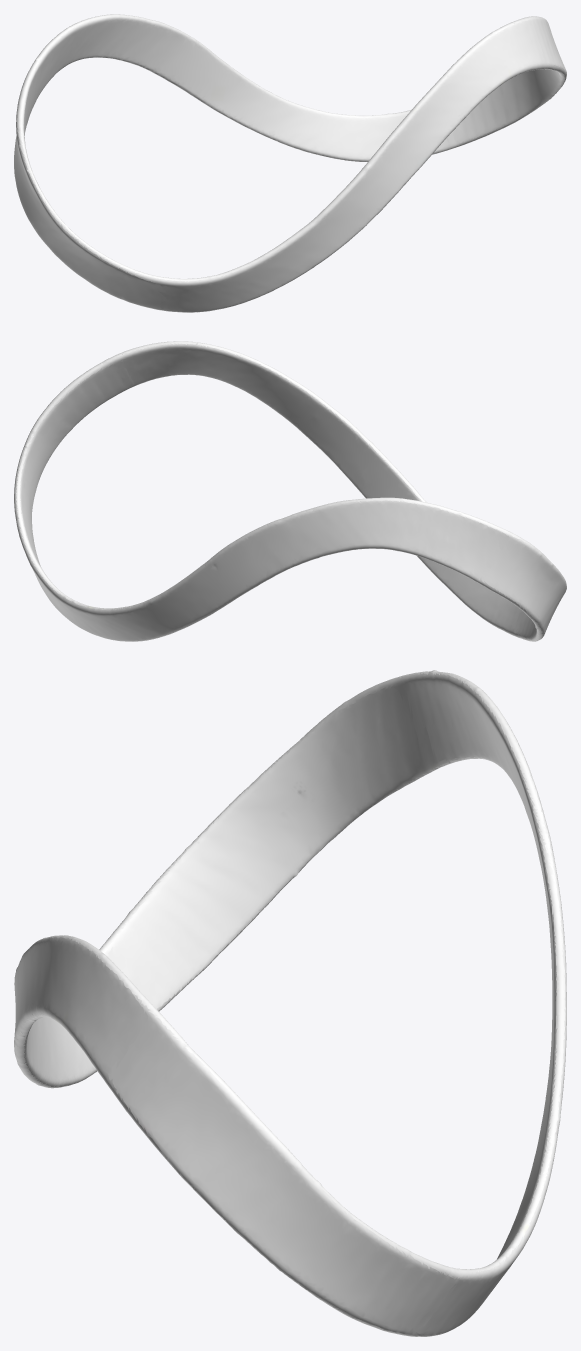
The model's file is infini.glb.
3 views of the same model, one above another, from view 1: azimuth 30°, elevation 25°; view 2: azimuth 150°, elevation 25°; view 3: azimuth 270°, elevation 25° (orthographic). The views are drawn at different scales.
Parts seen in each view (by area): view 1: mvadapter_mesh_uv_pipeline; view 2: mvadapter_mesh_uv_pipeline; view 3: mvadapter_mesh_uv_pipeline.
Boxes of the visible parts, <box> form: mvadapter_mesh_uv_pipeline: <box>14,14,566,312</box>; mvadapter_mesh_uv_pipeline: <box>14,341,566,641</box>; mvadapter_mesh_uv_pipeline: <box>14,670,566,1336</box>.
Size of the model in its own units: 1.98 by 0.7612 by 1.06.
1 material, 1 textured.
